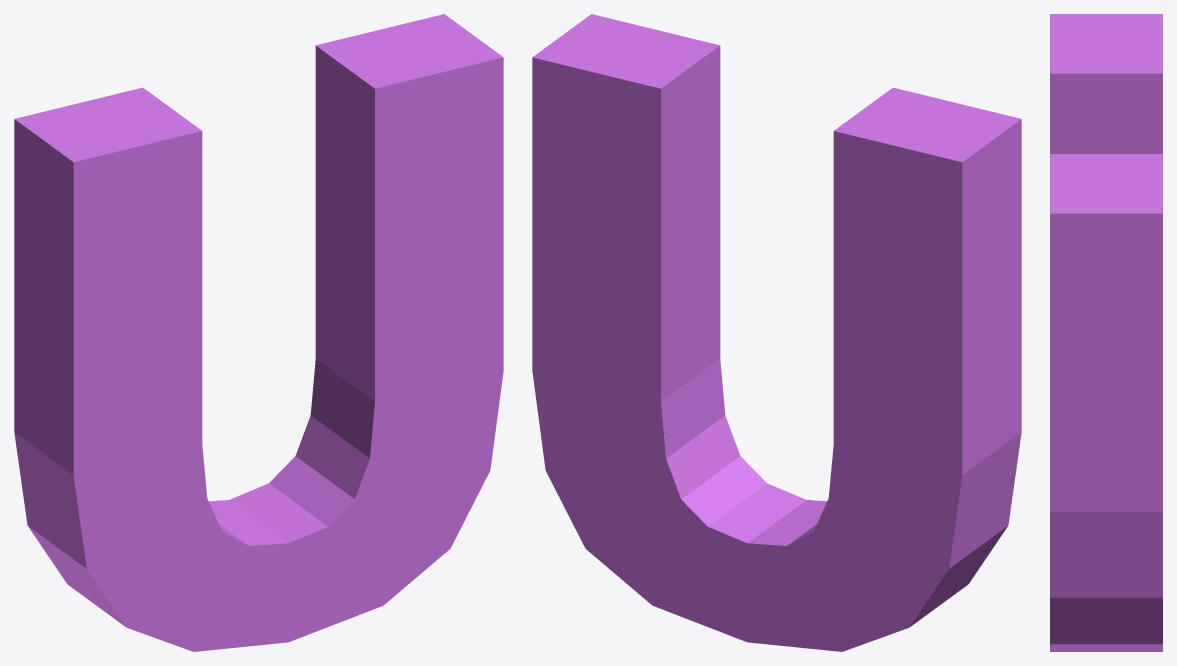
File: huruf_besar_u.glb
The picture shows the model from 3 angles, left to right: view 1: azimuth 30°, elevation 25°; view 2: azimuth 150°, elevation 25°; view 3: azimuth 270°, elevation 25°; orthographic projection. The views are drawn at different scales.
Visible parts, largest first — view 1: geometry_0; view 2: geometry_0; view 3: geometry_0.
Part boxes in pixels (bbox=[...]): geometry_0: bbox=[14, 14, 503, 651]; geometry_0: bbox=[532, 14, 1021, 651]; geometry_0: bbox=[1050, 14, 1162, 651].
Size of the model in its own units: 6.28 by 7.43 by 1.5.
